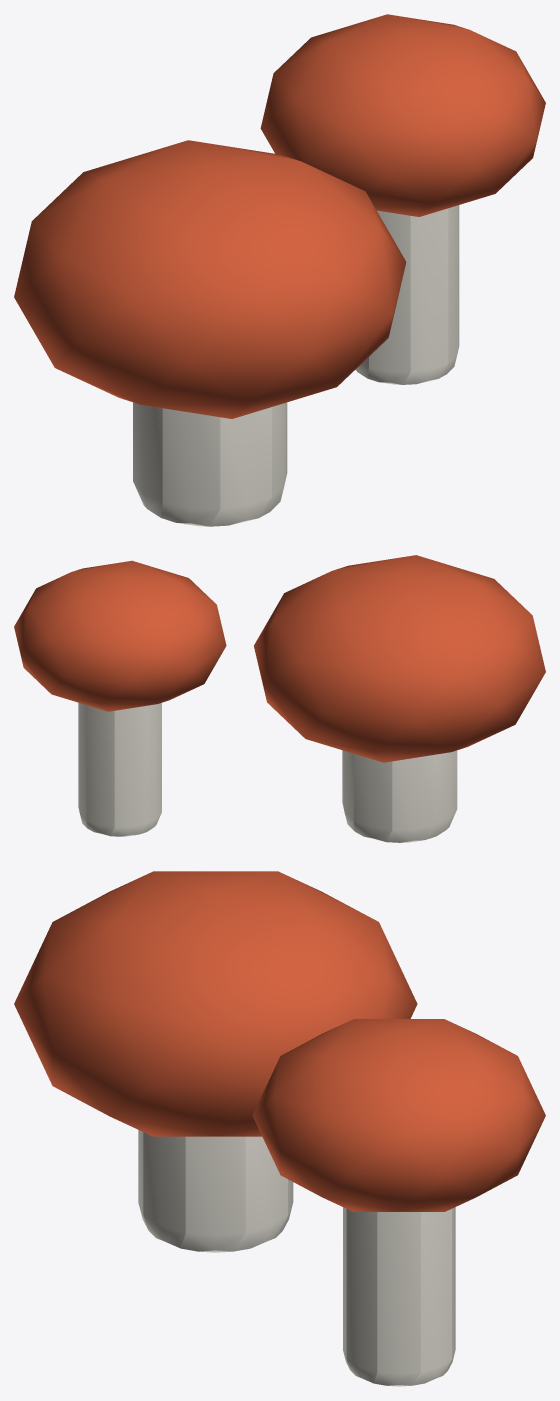
File: prop_mushrooms.glb
The picture shows the model from 3 angles, top to bottom: view 1: azimuth 30°, elevation 25°; view 2: azimuth 150°, elevation 25°; view 3: azimuth 270°, elevation 25°; orthographic projection. The views are drawn at different scales.
Parts seen in each view (by area): view 1: msh_cap, msh2_cap, msh_stem, msh2_stem; view 2: msh_cap, msh2_cap, msh2_stem, msh_stem; view 3: msh_cap, msh2_cap, msh2_stem, msh_stem.
Boxes of the visible parts, <box> form: msh_cap: <box>14,140,406,418</box>; msh2_cap: <box>260,14,545,216</box>; msh_stem: <box>133,402,287,526</box>; msh2_stem: <box>355,205,459,384</box>; msh_cap: <box>254,555,545,762</box>; msh2_cap: <box>14,560,226,711</box>; msh2_stem: <box>78,702,161,836</box>; msh_stem: <box>342,750,457,842</box>; msh_cap: <box>14,871,417,1136</box>; msh2_cap: <box>252,1019,545,1211</box>; msh2_stem: <box>343,1207,455,1386</box>; msh_stem: <box>138,1130,293,1252</box>.
Size of the model in its own units: 0.3607 by 0.2052 by 0.29.
